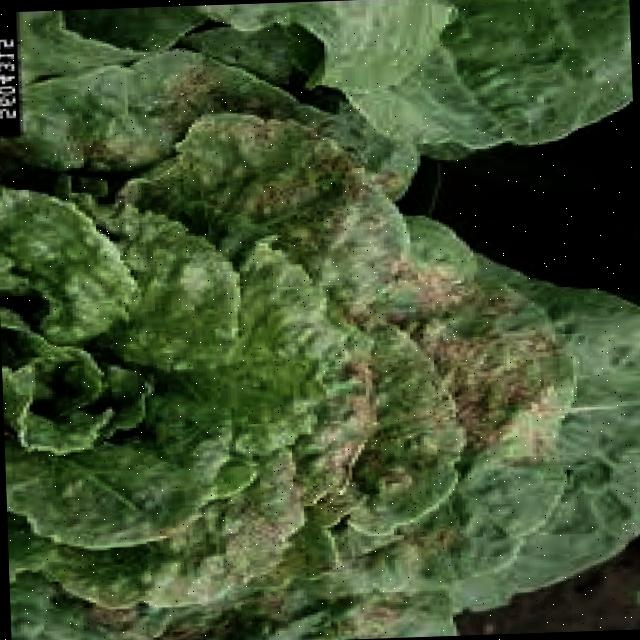Viral: (38, 281, 551, 614)
